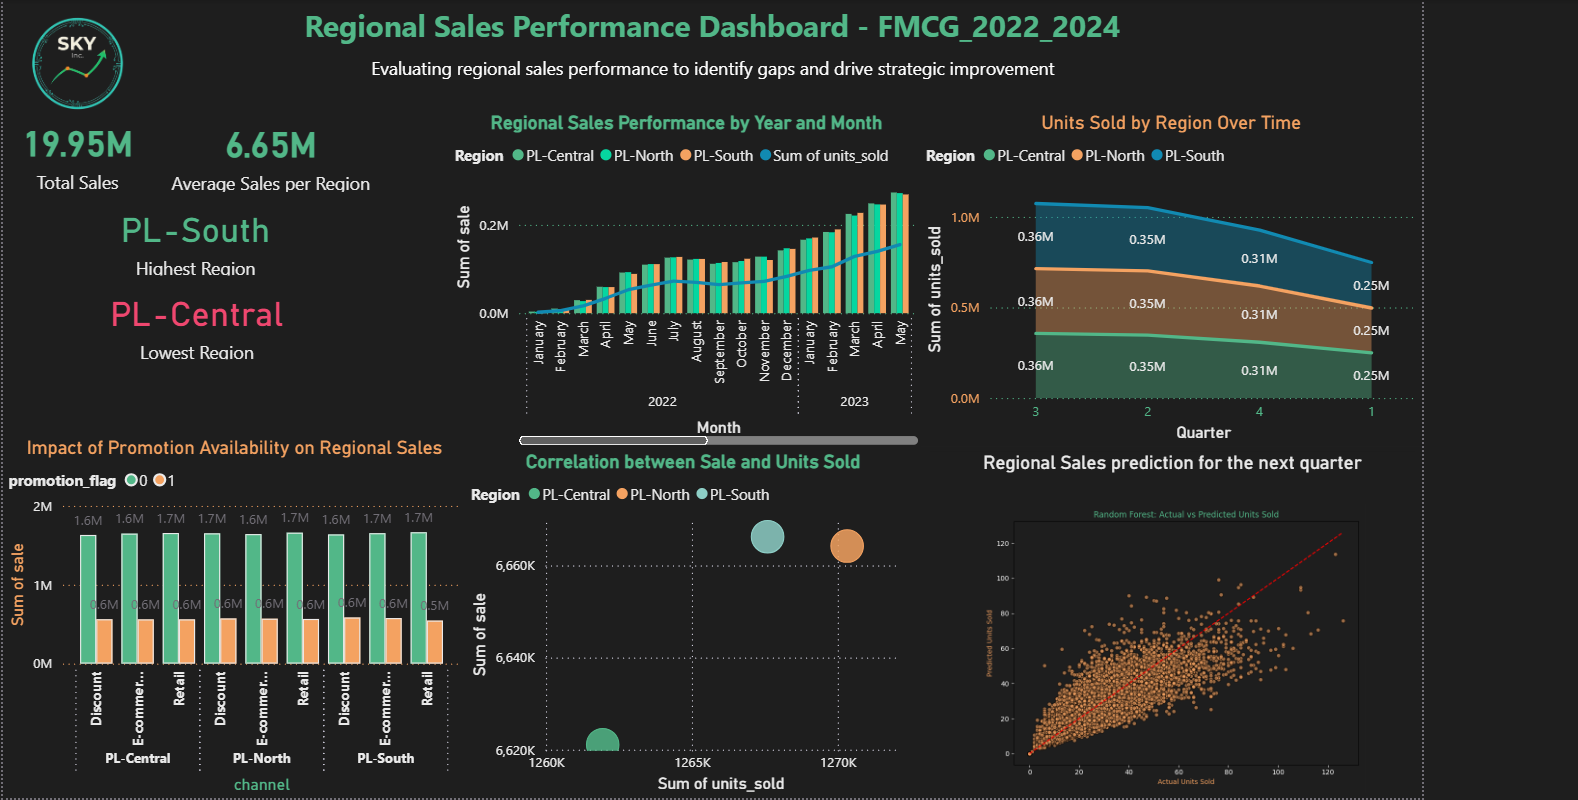

The page's visual inventory and layout, read from the dashboard file:
{"tool":"powerbi","page":{"name":"Page 4","canvas":[1280,720],"ordinal":0},"visuals":[{"type":"lineClusteredColumnComboChart","title":"Regional Sales Performance by Year and Month","fields":{"Category":["FMCG_2022_2024.date.Variation.Date Hierarchy.Year","FMCG_2022_2024.date.Variation.Date Hierarchy.Month"],"Series":["FMCG_2022_2024.region"],"Y":["Sum(FMCG_2022_2024.sale)"],"Y2":["Sum(FMCG_2022_2024.units_sold)"]},"box":[402.3,100,427.9,305.8],"z":0},{"type":"clusteredColumnChart","title":"Impact of Promotion Availability on Regional Sales","fields":{"Category":["FMCG_2022_2024.region","FMCG_2022_2024.channel"],"Y":["Sum(FMCG_2022_2024.sale)"],"Series":["FMCG_2022_2024.promotion_flag"]},"box":[0,393,417.4,326.7],"z":1000},{"type":"pythonVisual","title":"Regional Sales prediction for the next quarter","fields":{"Values":["FMCG_2022_2024.Units_Sold_Prev","FMCG_2022_2024.promotion_flag","FMCG_2022_2024.channel","FMCG_2022_2024.price_unit","FMCG_2022_2024.stock_available","FMCG_2022_2024.units_sold","FMCG_2022_2024.year","FMCG_2022_2024.Quarter","FMCG_2022_2024.region"]},"box":[831,406.4,447.4,312.8],"z":2000},{"type":"scatterChart","title":"Correlation between Sale and Units Sold","fields":{"X":["Sum(FMCG_2022_2024.units_sold)"],"Series":["FMCG_2022_2024.region"],"Y":["Sum(FMCG_2022_2024.sale)"],"Size":["Sum(FMCG_2022_2024.sale)"]},"box":[417.4,405.8,410.5,314],"z":3000},{"type":"stackedAreaChart","title":"Units Sold by Region Over Time","fields":{"Y":["Sum(FMCG_2022_2024.units_sold)"],"Series":["FMCG_2022_2024.region"],"Category":["FMCG_2022_2024.Quarter"]},"box":[826.7,100,452.3,302.3],"z":4000},{"type":"textbox","box":[0,0,1279.3,45.1],"z":5000},{"type":"card","fields":{"Values":["FMCG_2022_2024.Total Sales"]},"box":[0,98.8,134.9,79.1],"z":6000},{"type":"card","fields":{"Values":["FMCG_2022_2024.Average Sales per Region"]},"box":[134.9,100,212.8,77.9],"z":7000},{"type":"card","fields":{"Values":["FMCG_2022_2024.TopRegion"]},"box":[0,177.9,347.7,75.6],"z":8000},{"type":"card","fields":{"Values":["FMCG_2022_2024.BottomRegion"]},"box":[1.2,253.5,347.7,75.6],"z":9000},{"type":"image","box":[0,0,113.8,113.8],"z":10000},{"type":"textbox","box":[388.9,45.1,501.6,45.1],"z":11000}]}

Visuals, with their boxes on the page's 1280x720 design canvas (x1, y1, x2, y2). These are canvas units, not pixel positions in the 1578x800 screenshot, which may show the page scaled, cropped or inside an application window:
"Regional Sales Performance by Year and Month" lineClusteredColumnComboChart: <box>402,100,830,406</box>
"Impact of Promotion Availability on Regional Sales" clusteredColumnChart: <box>0,393,417,720</box>
"Regional Sales prediction for the next quarter" pythonVisual: <box>831,406,1278,719</box>
"Correlation between Sale and Units Sold" scatterChart: <box>417,406,828,720</box>
"Units Sold by Region Over Time" stackedAreaChart: <box>827,100,1279,402</box>
textbox: <box>0,0,1279,45</box>
card - FMCG_2022_2024.Total Sales: <box>0,99,135,178</box>
card - FMCG_2022_2024.Average Sales per Region: <box>135,100,348,178</box>
card - FMCG_2022_2024.TopRegion: <box>0,178,348,254</box>
card - FMCG_2022_2024.BottomRegion: <box>1,254,349,329</box>
image: <box>0,0,114,114</box>
textbox: <box>389,45,890,90</box>
